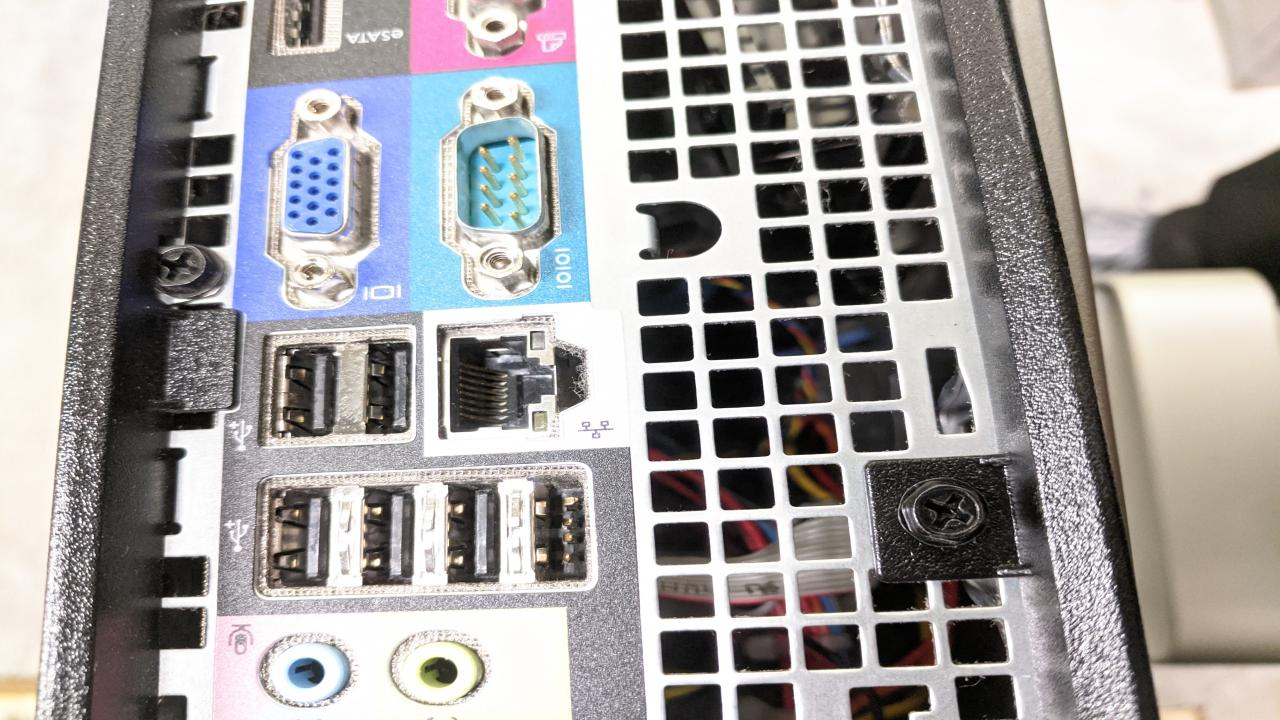CRS: (902, 478, 992, 548), (149, 246, 217, 298)
